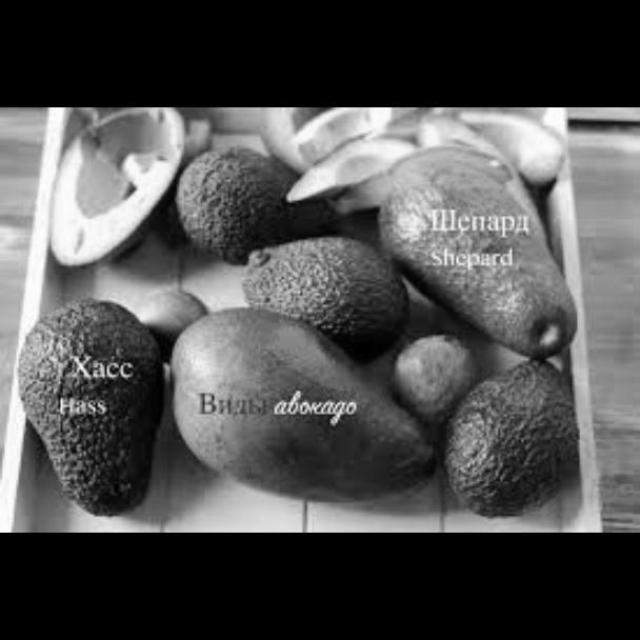avocado: (174, 294, 441, 512), (381, 130, 579, 367), (13, 273, 168, 525), (252, 106, 613, 193), (187, 128, 377, 244), (449, 350, 585, 511), (42, 106, 183, 256), (225, 231, 409, 342)
